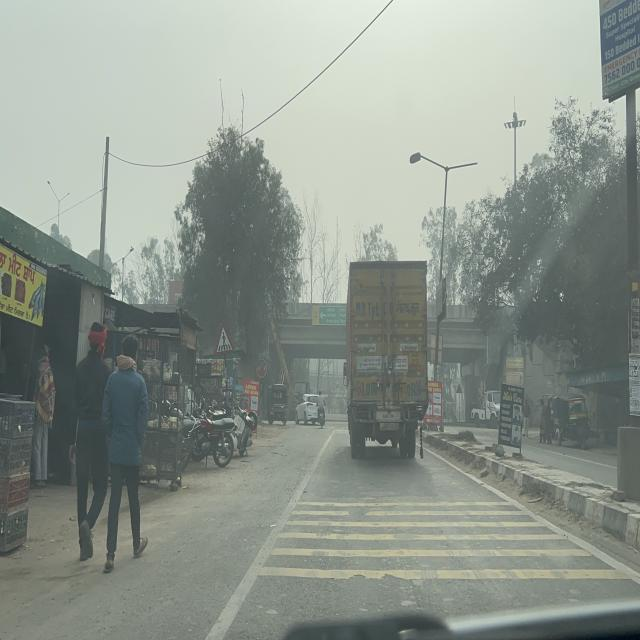GENERAL: (311, 305, 346, 325)
PEDESTRIAN_CROSSING: (215, 323, 234, 356)
STOP: (256, 358, 267, 379)
